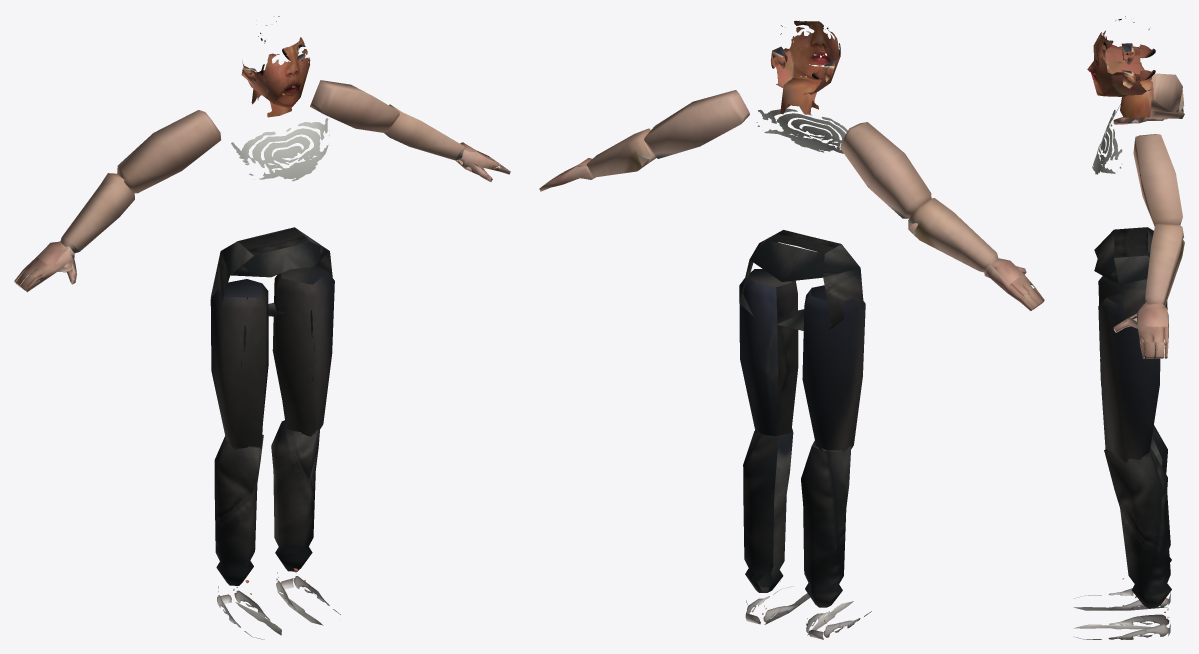
The model's file is opp.fbx.
The picture shows the model from 3 angles, left to right: view 1: azimuth 30°, elevation 25°; view 2: azimuth 150°, elevation 25°; view 3: azimuth 270°, elevation 25°; orthographic projection.
Visible parts, largest first — view 1: Man_3; view 2: Man_3; view 3: Man_3.
Part boxes in pixels (x1,y1,x2,y2): Man_3: (14,16,510,639); Man_3: (539,20,1044,639); Man_3: (1073,16,1184,639).
Bounding box in the file's own units: 165 × 192 × 32.38.
Materials: 1 (1 with a texture image).
